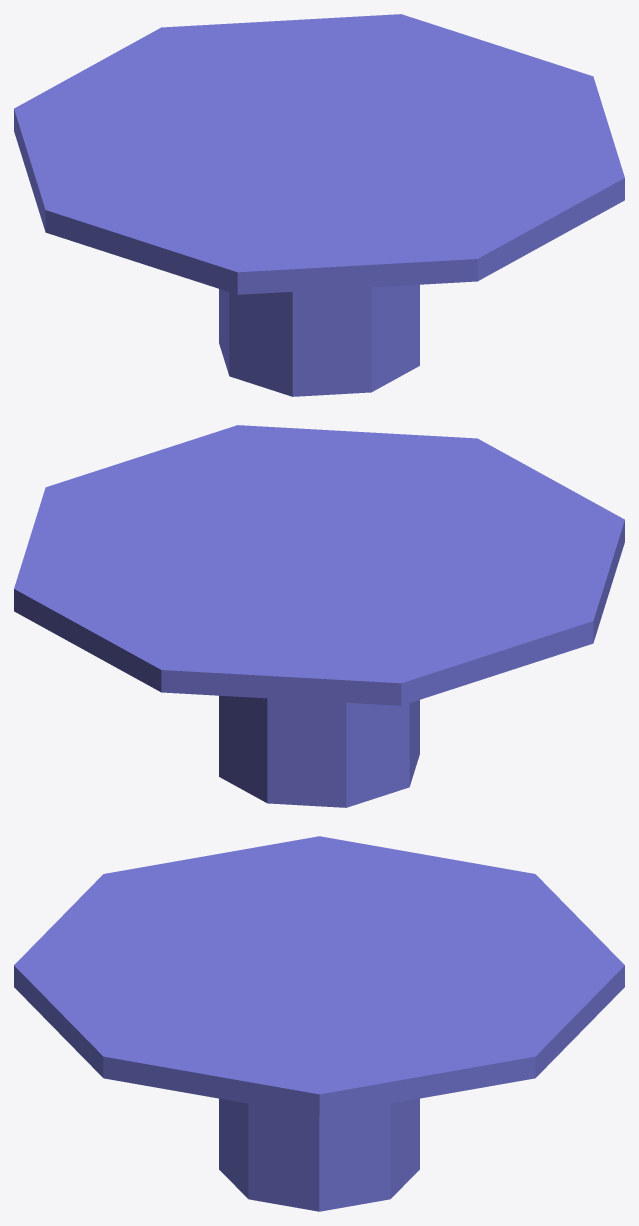
Rendered from Starting Pad.fbx.
The picture shows the model from 3 angles, top to bottom: view 1: azimuth 30°, elevation 25°; view 2: azimuth 150°, elevation 25°; view 3: azimuth 270°, elevation 25°; orthographic projection. The views are drawn at different scales.
Parts seen in each view (by area): view 1: Cylinder; view 2: Cylinder; view 3: Cylinder.
Boxes of the visible parts, bbox=[...] form: Cylinder: bbox=[14, 14, 624, 396]; Cylinder: bbox=[14, 425, 624, 807]; Cylinder: bbox=[14, 836, 624, 1211].
Size of the model in its own units: 411 by 151 by 411.
